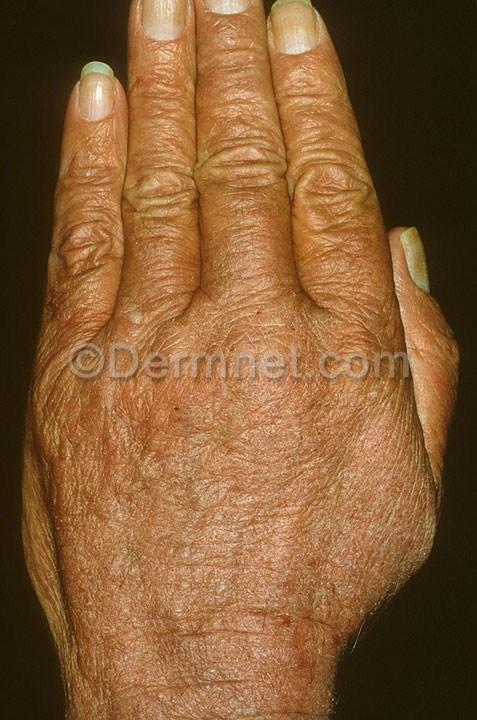Eczema: (32, 376, 120, 470), (110, 370, 190, 465), (291, 535, 355, 642), (199, 110, 290, 183), (42, 456, 129, 529), (290, 158, 379, 228), (372, 458, 432, 559), (203, 26, 271, 110), (255, 604, 319, 692), (306, 232, 388, 300), (182, 314, 258, 386), (340, 359, 404, 442), (213, 248, 292, 315), (267, 309, 344, 376), (129, 192, 201, 256), (212, 188, 286, 248), (343, 304, 406, 374), (130, 256, 192, 324), (346, 507, 400, 583), (277, 370, 342, 433), (290, 103, 354, 166), (123, 148, 196, 202), (61, 218, 125, 278), (58, 160, 119, 222), (43, 304, 102, 368), (279, 55, 343, 107), (48, 263, 114, 312), (134, 105, 193, 150), (133, 61, 186, 108)
